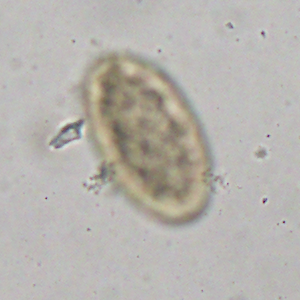Fasciola_hepatica_egg: (79, 52, 215, 227)
